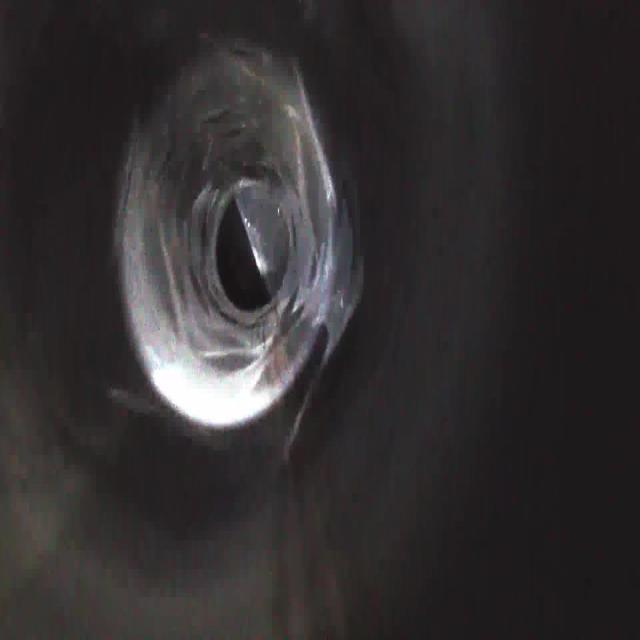crack: (290, 111, 342, 299), (150, 235, 195, 354), (194, 339, 265, 391), (192, 97, 252, 152)
